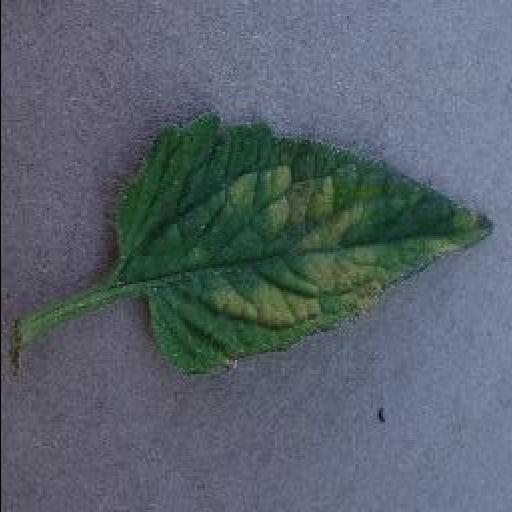disease_tomato: (110, 114, 496, 372)
